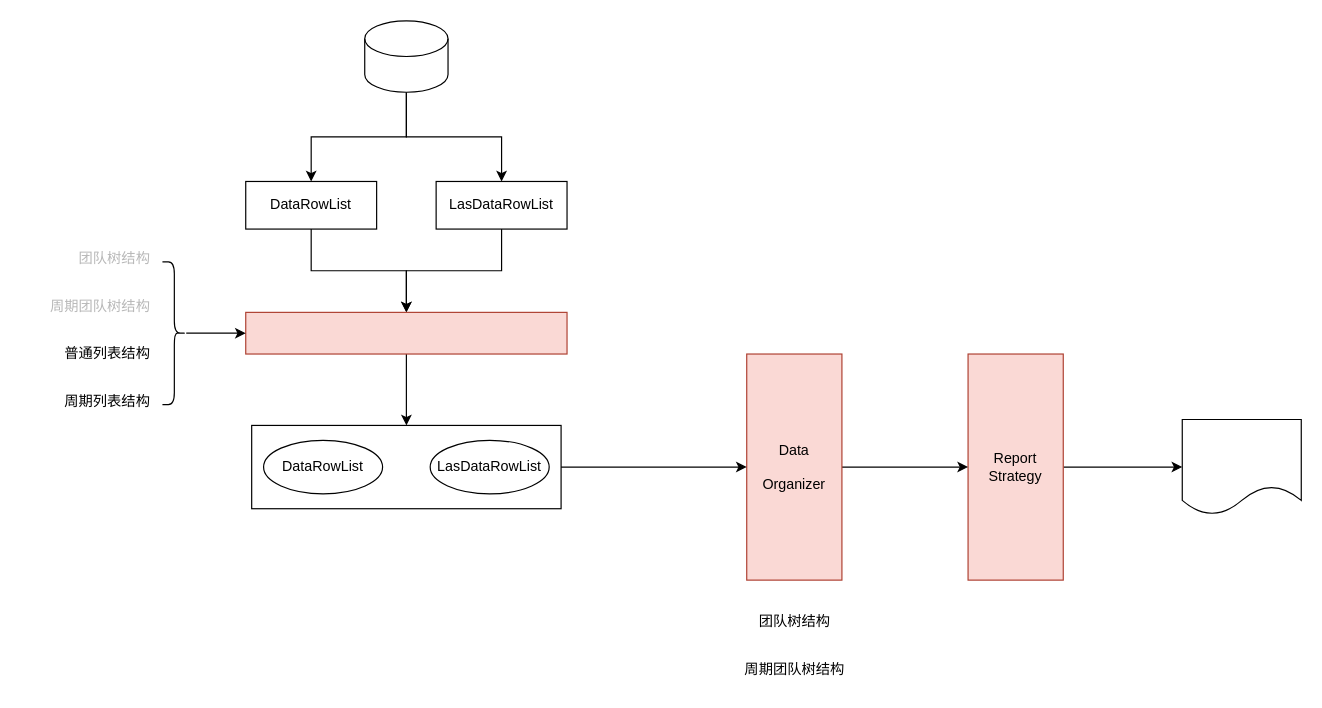
The diagram is 1322 pixels wide and 708 high, and some of its shapes have lost their labels. The centre of each missing label's shape, as x and y in pixels:
"DB Query" goes at (406,56).
"Report" goes at (1241,466).
"处理往期数据" goes at (406,332).
